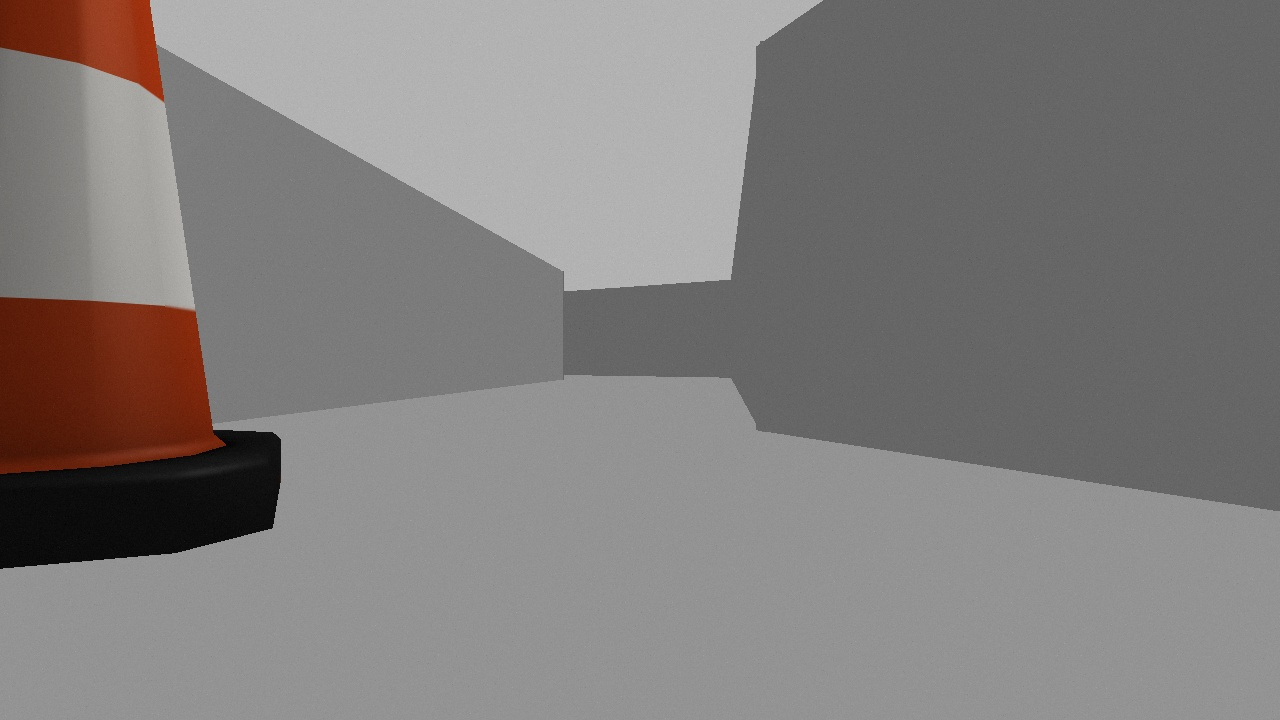barricade: (1, 1, 316, 585)
